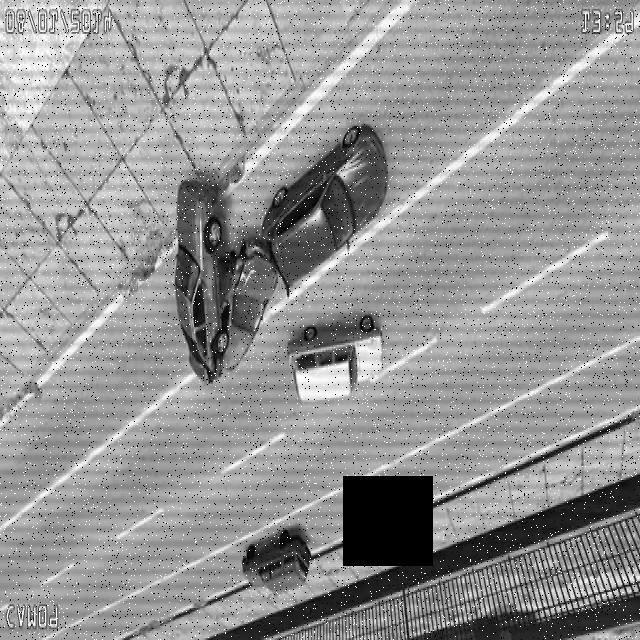person: (168, 162, 238, 406)
vehicle: (228, 124, 394, 336)
